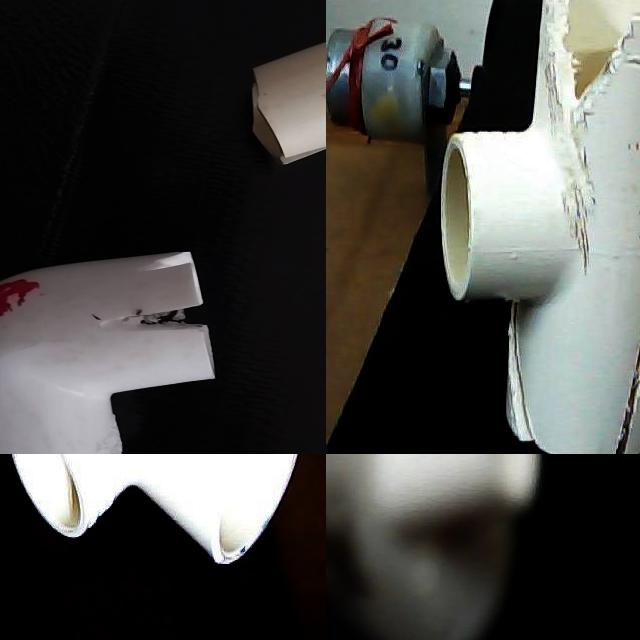Defective: (549, 0, 625, 303), (326, 494, 416, 610), (491, 294, 547, 454), (563, 0, 628, 103), (95, 313, 223, 344), (507, 305, 534, 444), (616, 321, 640, 454), (612, 344, 640, 454)
L Joint: (0, 252, 215, 454), (252, 43, 326, 168)
T Joint: (10, 454, 300, 567)
